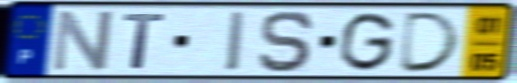D: (396, 10, 464, 75)
G: (337, 10, 398, 74)
I: (224, 9, 248, 74)
N: (49, 7, 117, 74)
S: (256, 9, 318, 75)
T: (120, 11, 169, 71)
